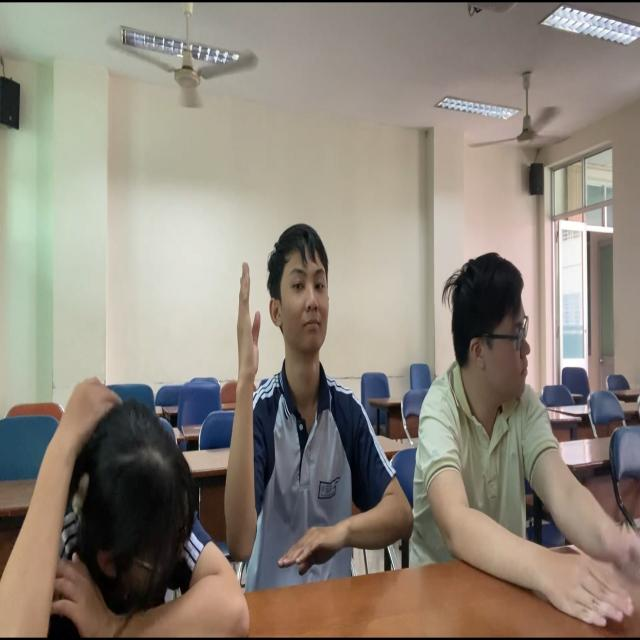raise_hand: (233, 221, 411, 615)
sleep: (1, 375, 244, 640)
